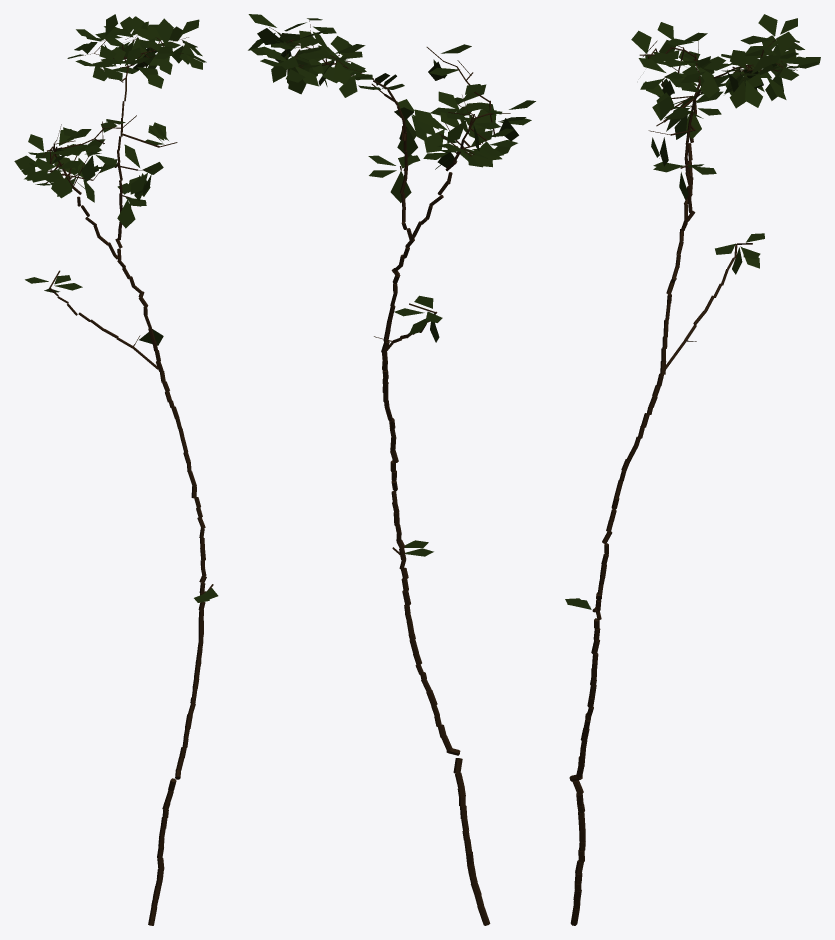
Rendered from tree_337.obj.
3 renders of one model, left to right at view 1: azimuth 30°, elevation 25°; view 2: azimuth 150°, elevation 25°; view 3: azimuth 270°, elevation 25°, orthographic. The views are drawn at different scales.
Parts seen in each view (by area): view 1: Leaves, TrunkAndBranches; view 2: Leaves, TrunkAndBranches; view 3: Leaves, TrunkAndBranches.
Boxes of the visible parts, <box> form: Leaves: <box>14,14,218,602</box>; TrunkAndBranches: <box>43,35,213,925</box>; Leaves: <box>248,14,535,556</box>; TrunkAndBranches: <box>269,20,510,925</box>; Leaves: <box>565,14,820,609</box>; TrunkAndBranches: <box>569,36,797,925</box>.
Size of the model in its own units: 2.44 by 9.24 by 2.3.
